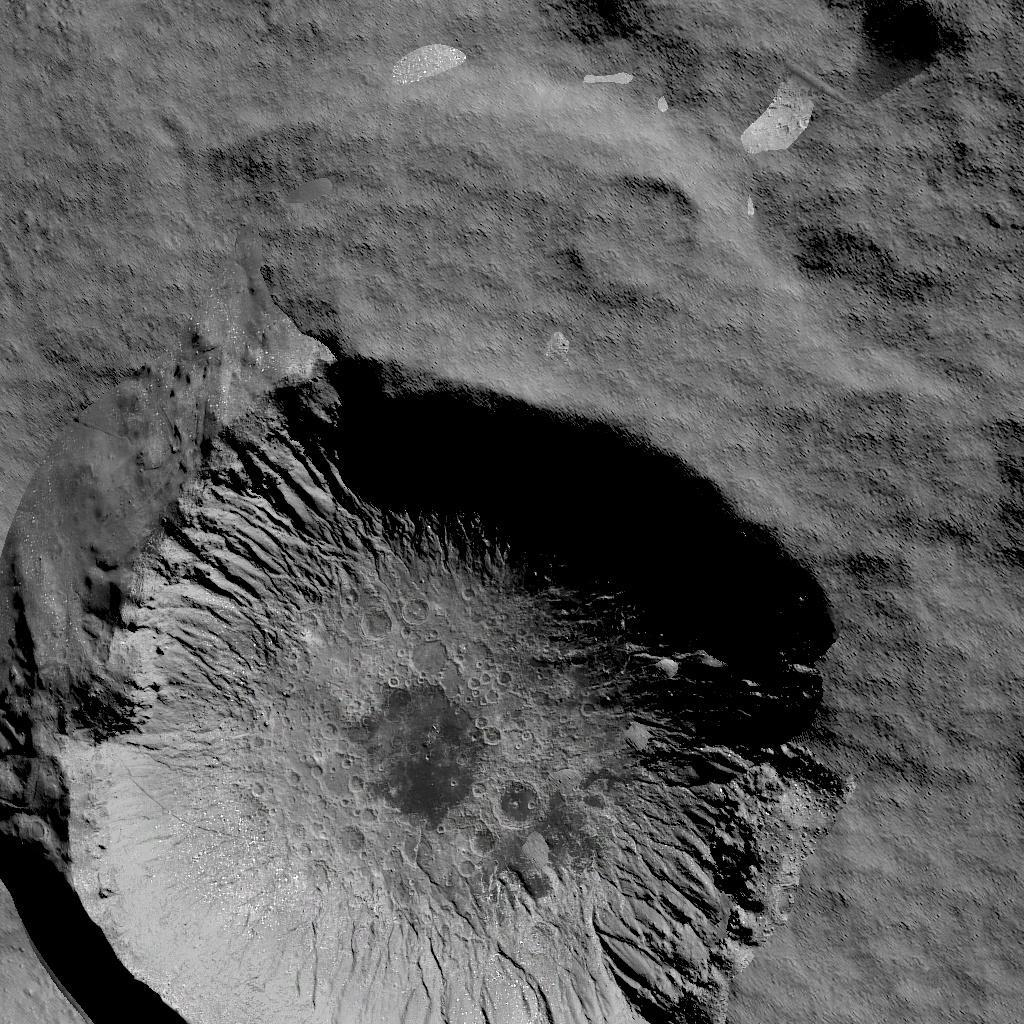Crater: (0, 290, 921, 1024)
Plan surface: (9, 2, 1024, 258)
